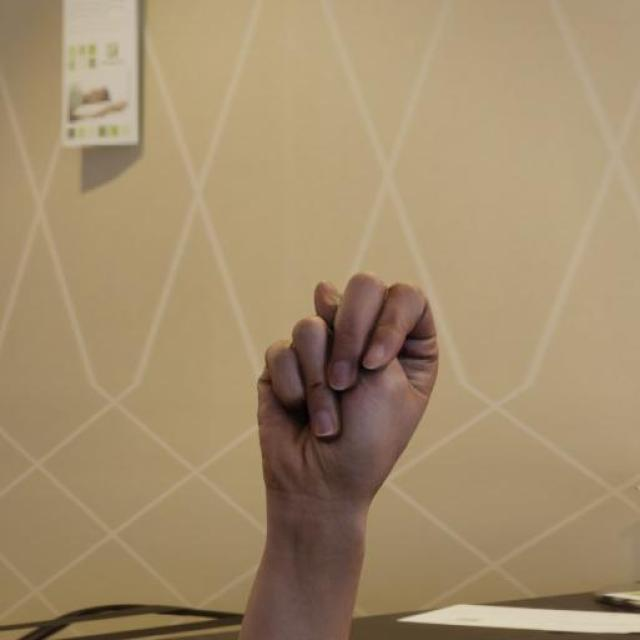N: (253, 270, 441, 506)
